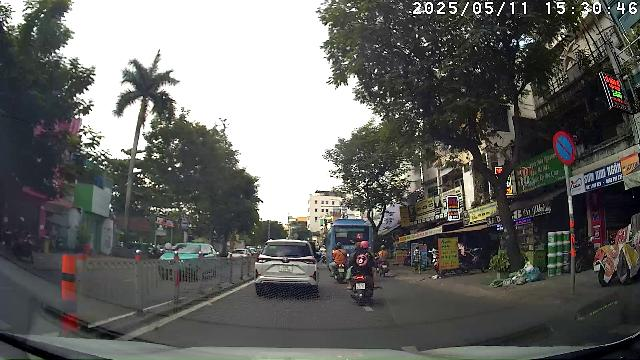131a-cam-do-xe: (552, 130, 576, 166)
